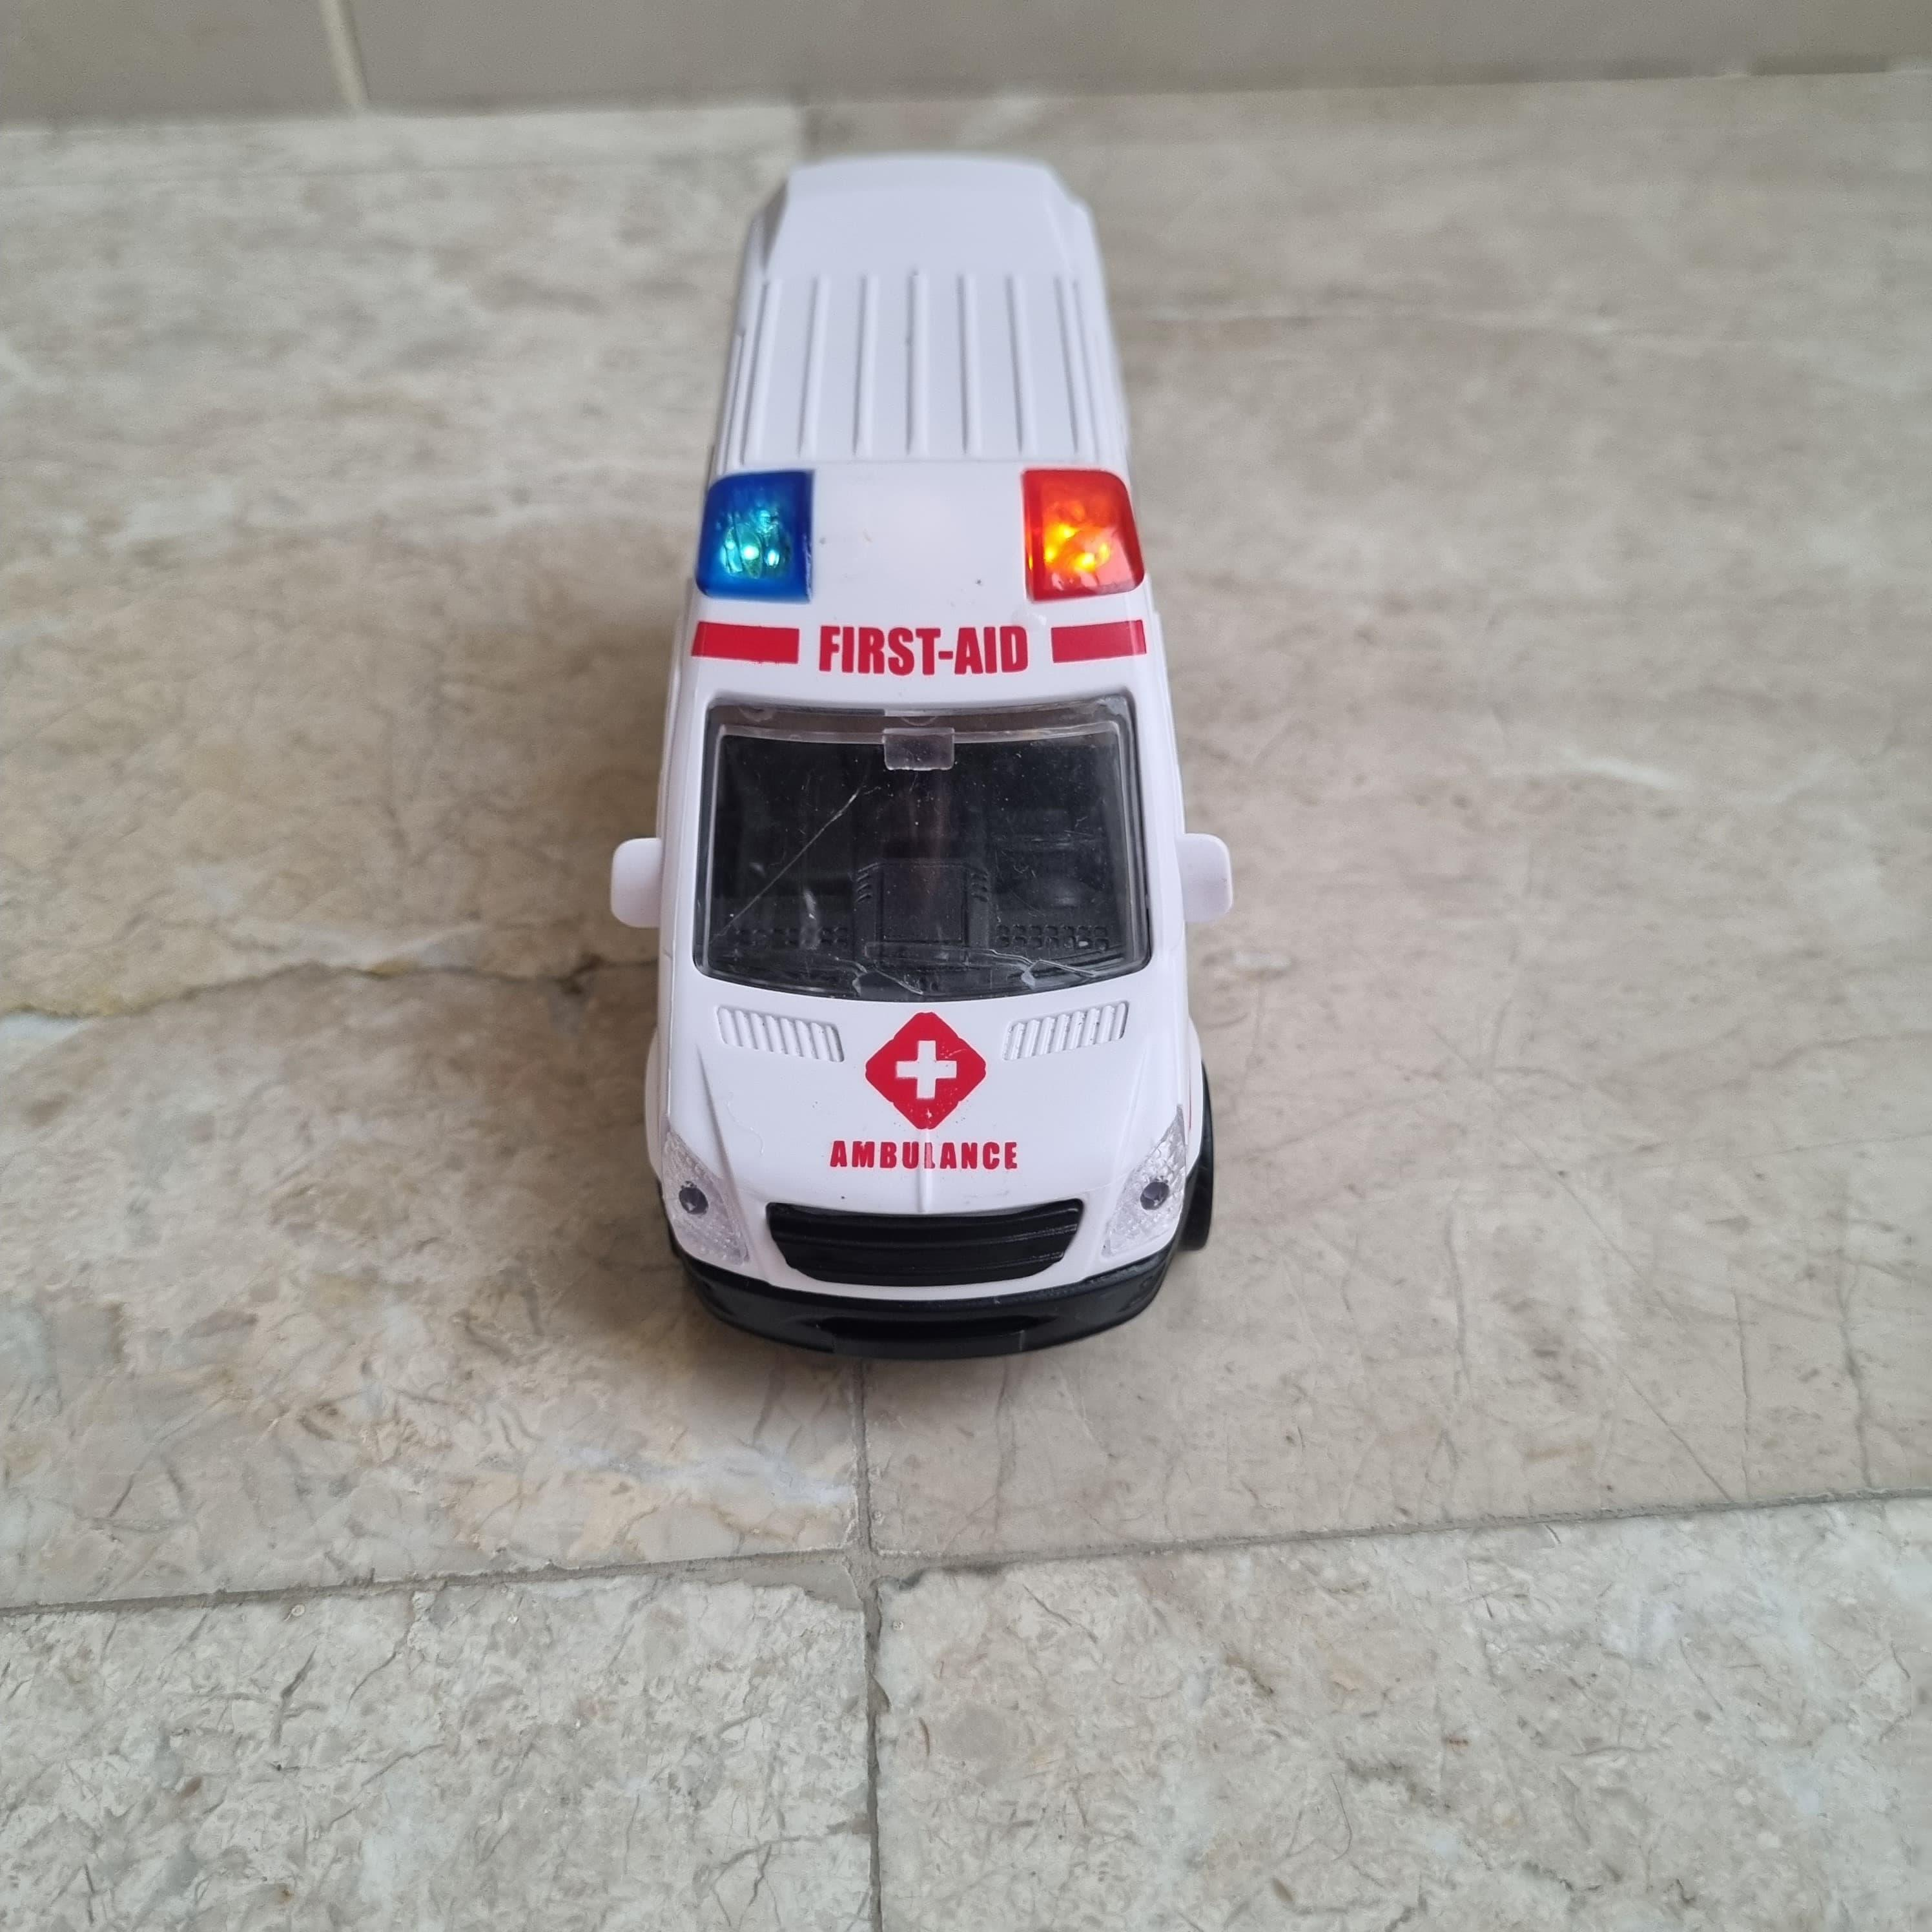ambulance_on: (607, 156, 1237, 1364)
